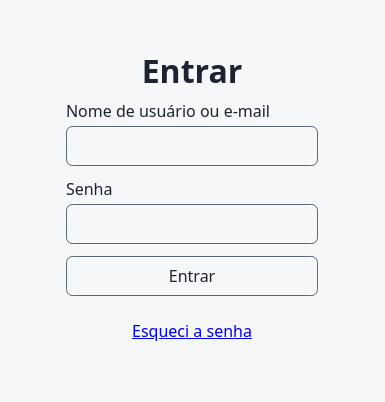
Test: entrar e sair › oferece o reenvio do link quando o e-mail ainda não foi verificado
Type "caio" into the field labelled "Nome de usuário ou e-mail".
click(192, 146); type("caio")  # box [66, 126, 318, 166]
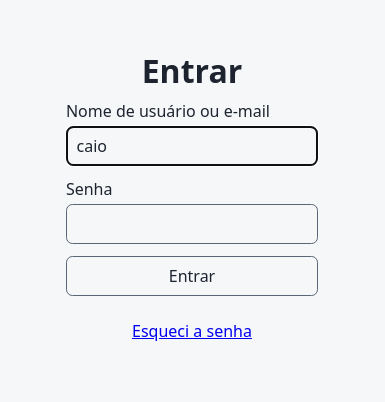
Type "uma-senha-comprida" into the password field labelled "Senha".
click(192, 224); type("uma-senha-comprida")  # box [66, 204, 318, 244]
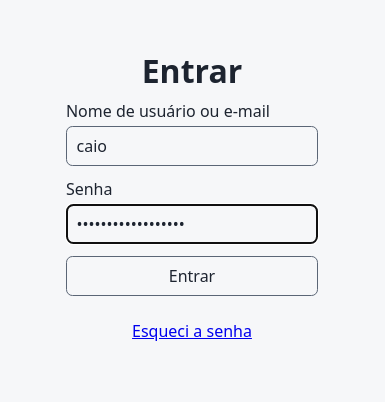
Click the button "Entrar".
click(192, 276)  # box [66, 256, 318, 296]
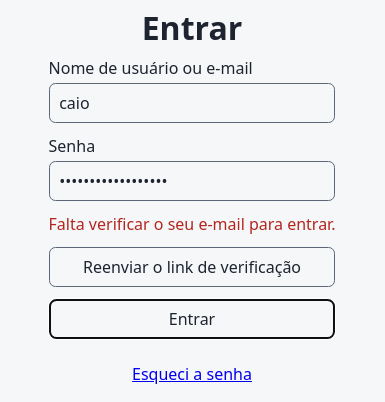
Click the button "Reenviar o link de verificação".
click(192, 266)  # box [48, 246, 335, 286]
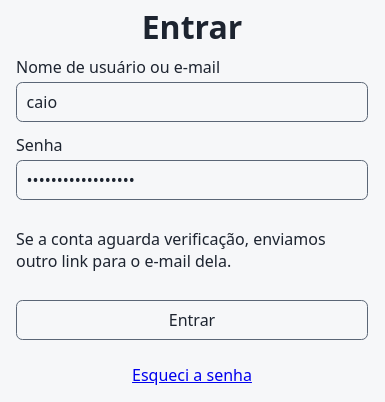
Check: the text "enviamos outro link" is shown, box [16, 228, 326, 272]
